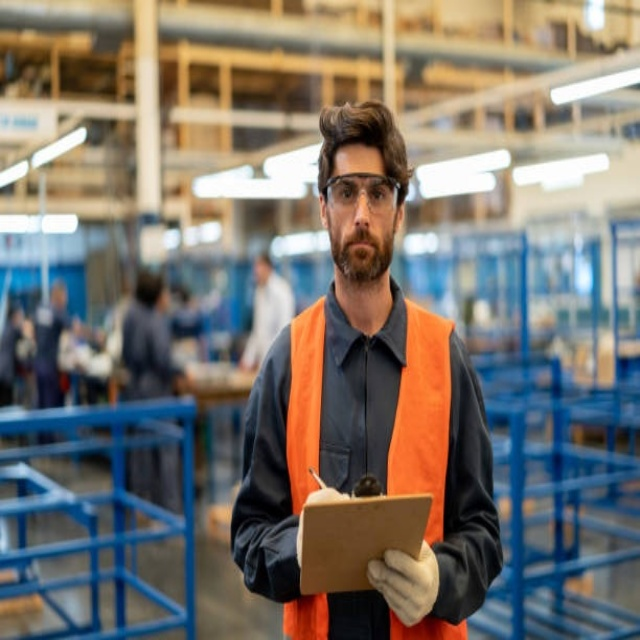Gafas: (324, 175, 402, 216)
Guantes: (363, 538, 442, 629)
Sin_mascara: (342, 234, 378, 267)
